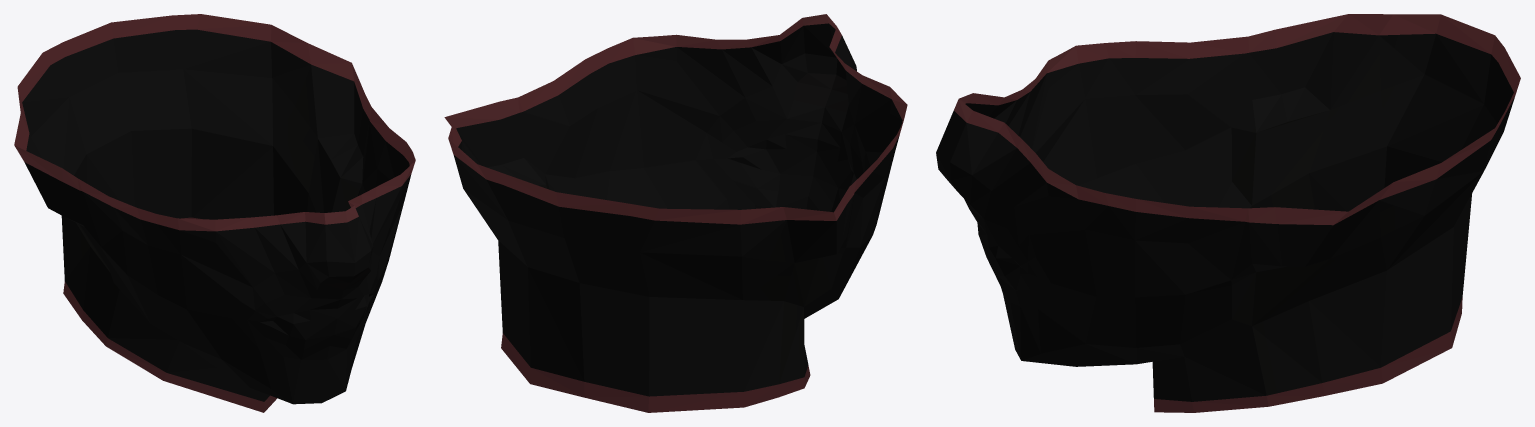
The model's file is miscNinjaMask.glb.
3 views of the same model, side by side, from view 1: azimuth 30°, elevation 25°; view 2: azimuth 150°, elevation 25°; view 3: azimuth 270°, elevation 25° (orthographic). The views are drawn at different scales.
Parts seen in each view (by area): view 1: miscNinjaMask; view 2: miscNinjaMask; view 3: miscNinjaMask.
Part boxes in pixels (x1=…): miscNinjaMask: x1=14, y1=14, x2=415, y2=412; miscNinjaMask: x1=444, y1=14, x2=907, y2=412; miscNinjaMask: x1=936, y1=14, x2=1520, y2=412.
Size of the model in its own units: 0.2489 by 0.1963 by 0.3113.
